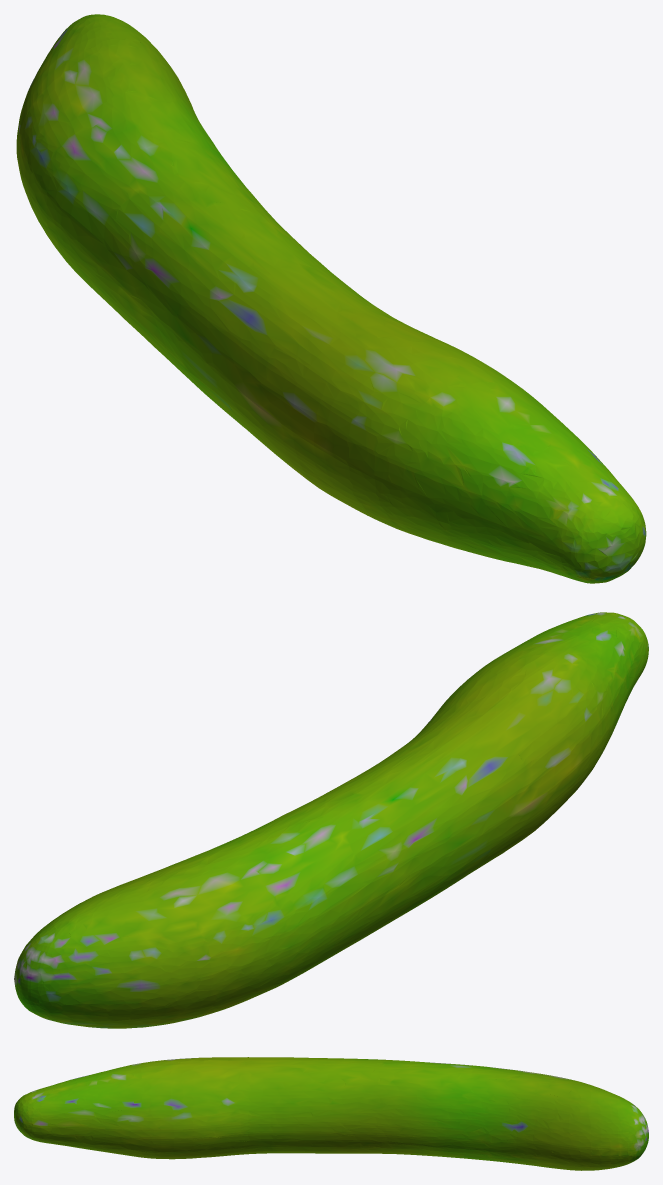
The model's file is 5_mesh_cousin_04.glb.
3 renders of one model, top to bottom at view 1: azimuth 30°, elevation 25°; view 2: azimuth 150°, elevation 25°; view 3: azimuth 270°, elevation 25°, orthographic. The views are drawn at different scales.
Parts seen in each view (by area): view 1: geometry_0; view 2: geometry_0; view 3: geometry_0.
Part boxes in pixels (box(x1,y1,x2,y2)): geometry_0: box(16, 14, 646, 583); geometry_0: box(14, 612, 648, 1028); geometry_0: box(14, 1057, 648, 1170).
Size of the model in its own units: 0.2355 by 0.1523 by 0.9995.
